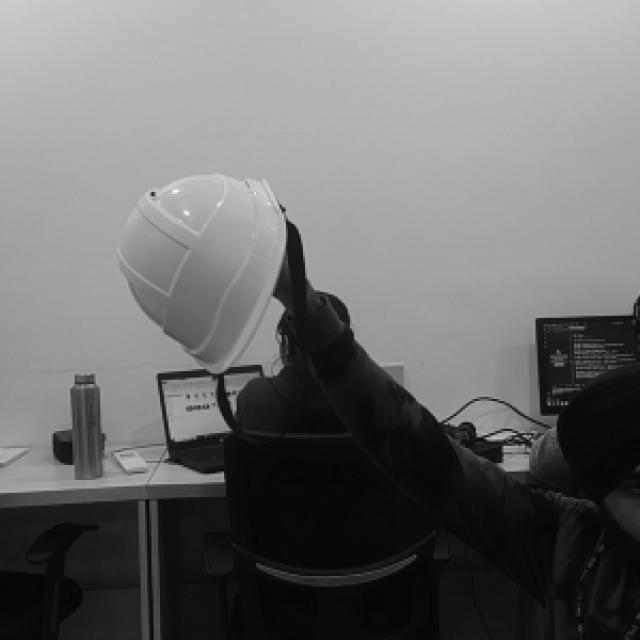safety_helmet: (119, 175, 288, 375)
